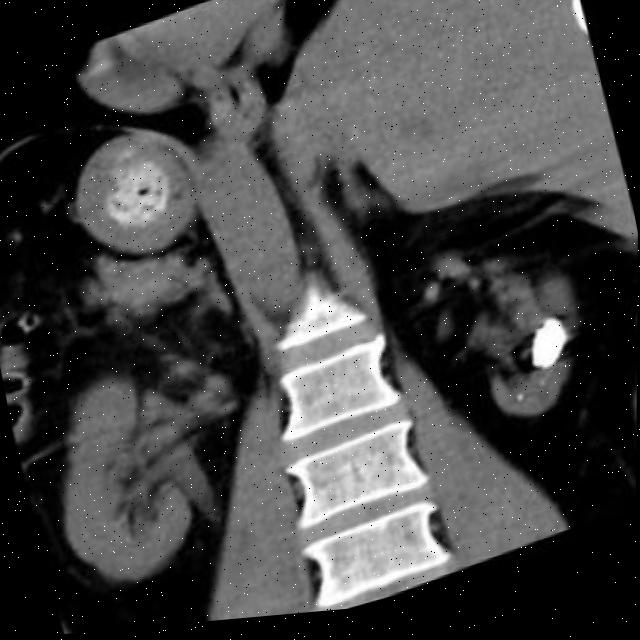Tas_Var: (518, 312, 587, 391), (516, 400, 529, 413), (539, 388, 550, 397)
